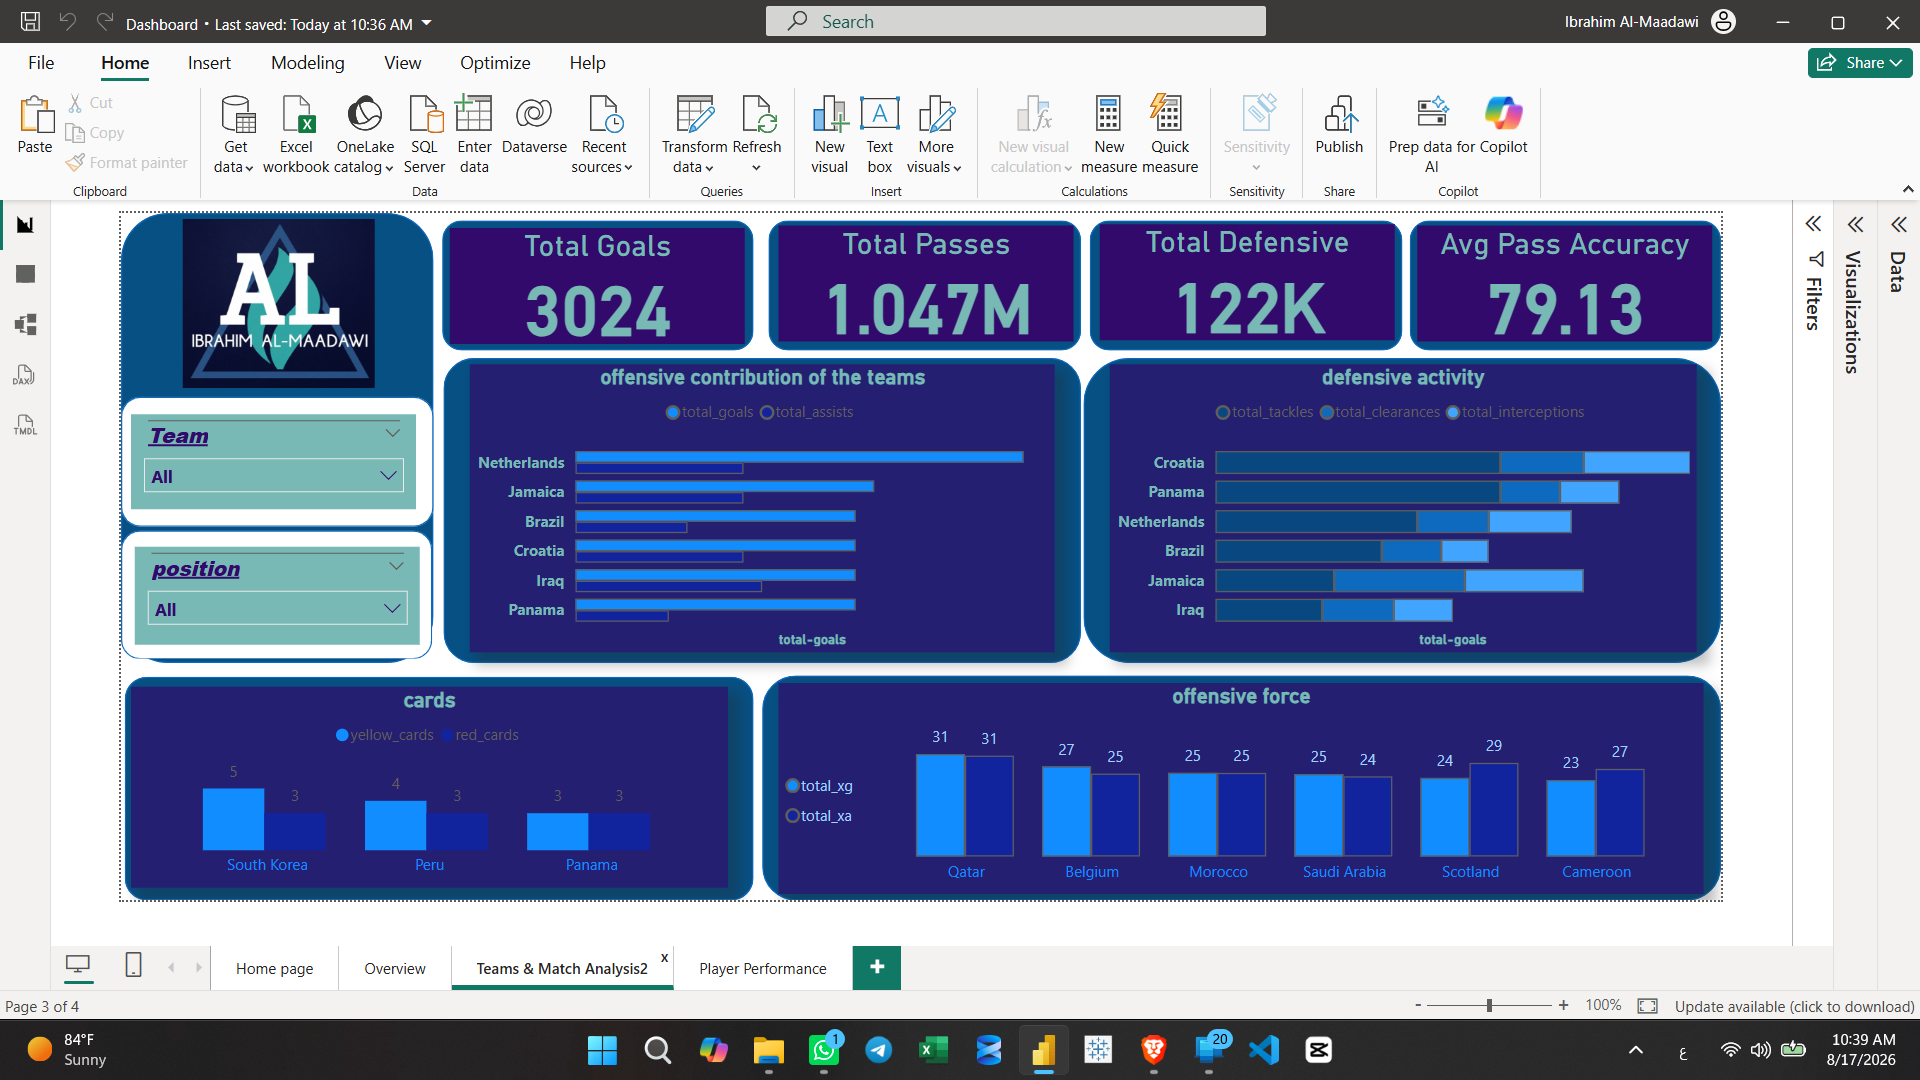

The dashboard page shown, as its layout file describes it:
{"tool":"powerbi","page":{"name":"Teams & Match Analysis2","canvas":[1280,550],"ordinal":2},"visuals":[{"type":"shape","box":[0,0,249.8,360.2],"z":0},{"type":"shape","box":[256.7,6.2,249.5,103.7],"z":1000},{"type":"shape","box":[518.4,6.2,249.5,103.7],"z":2000},{"type":"shape","box":[775.1,6.2,249.5,103.7],"z":3000},{"type":"shape","box":[1030.5,6.2,249.5,103.7],"z":4000},{"type":"shape","box":[257.7,116,510.2,244.3],"z":5000},{"type":"shape","box":[769.8,116,510.2,244.3],"z":6000},{"type":"shape","box":[513,370,767,180],"z":7000},{"type":"card","title":"Total Goals","fields":{"Values":["vw_player_tournament_master.Measure"]},"box":[262.8,11.6,236,93],"z":8000},{"type":"card","title":"Total Passes","fields":{"Values":["vw_player_tournament_master.Total Passes"]},"box":[525.6,10.5,236,93],"z":9000},{"type":"card","title":"Total Defensive ","fields":{"Values":["vw_player_tournament_master.Total Defensive Actions"]},"box":[782.6,9.3,236,93],"z":10000},{"type":"card","title":"Avg Pass Accuracy","fields":{"Values":["vw_player_tournament_master.Avg Pass Accuracy"]},"box":[1037.2,10.5,236,93],"z":11000},{"type":"shape","box":[0,147,250,104],"z":12000},{"type":"shape","box":[0,254,249,103],"z":13000},{"type":"slicer","fields":{"Values":["vw_player_tournament_master.team"]},"box":[8,161,228,76],"z":14000},{"type":"slicer","fields":{"Values":["vw_player_tournament_master.position"]},"box":[11,267,228,79],"z":15000},{"type":"clusteredBarChart","title":"offensive contribution of the teams","fields":{"Y":["Sum(vw_player_tournament_master.total_goals)","Sum(vw_player_tournament_master.total_assists)"],"Category":["vw_player_tournament_master.team"]},"box":[278.6,121.3,468.3,230.5],"z":16000},{"type":"barChart","title":"defensive activity","fields":{"Y":["Sum(vw_player_tournament_master.total_tackles)","Sum(vw_player_tournament_master.total_clearances)","Sum(vw_player_tournament_master.total_interceptions)"],"Category":["vw_player_tournament_master.team"]},"box":[791.3,121.3,468.3,230.5],"z":17000},{"type":"clusteredColumnChart","title":"offensive force","fields":{"Category":["vw_player_tournament_master.team"],"Y":["Sum(vw_player_tournament_master.total_xg)","Sum(vw_player_tournament_master.total_xa)"]},"box":[526,376,740,169],"z":18000},{"type":"shape","box":[3,371,503,179],"z":19000},{"type":"clusteredColumnChart","title":"cards","fields":{"Category":["vw_player_tournament_master.team"],"Y":["Sum(vw_player_tournament_master.total_yellow_cards)","Sum(vw_player_tournament_master.total_red_cards)"]},"box":[8,379,477,161],"z":20000},{"type":"image","box":[23.4,0,205.5,144.8],"z":21000}]}

Visuals, with their boxes on the page's 1280x550 design canvas (x1, y1, x2, y2). These are canvas units, not pixel positions in the 1920x1080 screenshot, which may show the page scaled, cropped or inside an application window:
shape: 0/0/250/360
shape: 257/6/506/110
shape: 518/6/768/110
shape: 775/6/1025/110
shape: 1030/6/1280/110
shape: 258/116/768/360
shape: 770/116/1280/360
shape: 513/370/1280/550
"Total Goals" card: 263/12/499/105
"Total Passes" card: 526/10/762/104
"Total Defensive " card: 783/9/1019/102
"Avg Pass Accuracy" card: 1037/10/1273/104
shape: 0/147/250/251
shape: 0/254/249/357
slicer - vw_player_tournament_master.team: 8/161/236/237
slicer - vw_player_tournament_master.position: 11/267/239/346
"offensive contribution of the teams" clusteredBarChart: 279/121/747/352
"defensive activity" barChart: 791/121/1260/352
"offensive force" clusteredColumnChart: 526/376/1266/545
shape: 3/371/506/550
"cards" clusteredColumnChart: 8/379/485/540
image: 23/0/229/145
